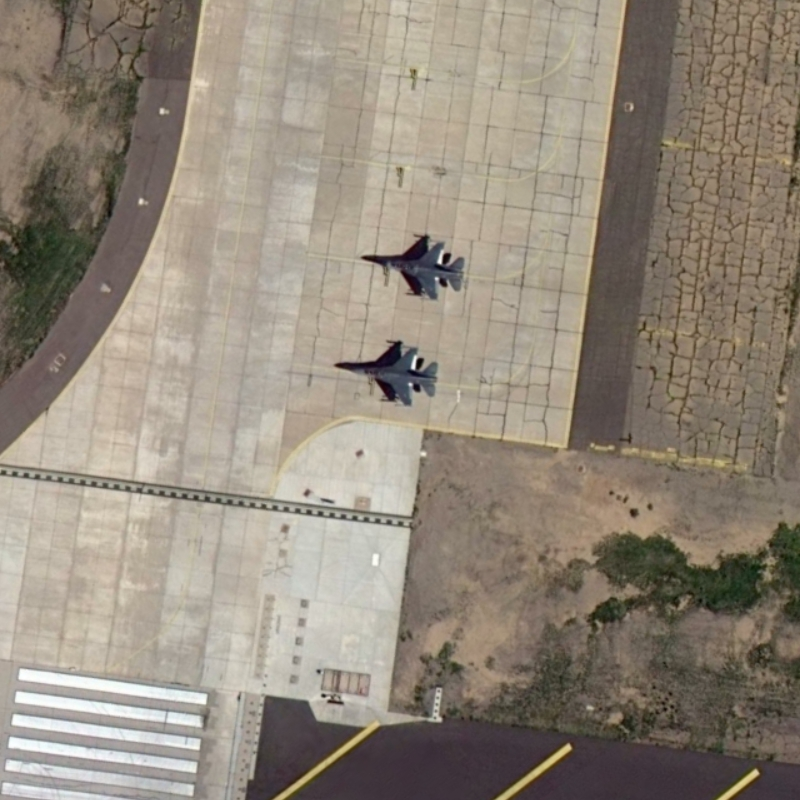A5: (347, 344, 443, 409), (381, 239, 469, 305)
